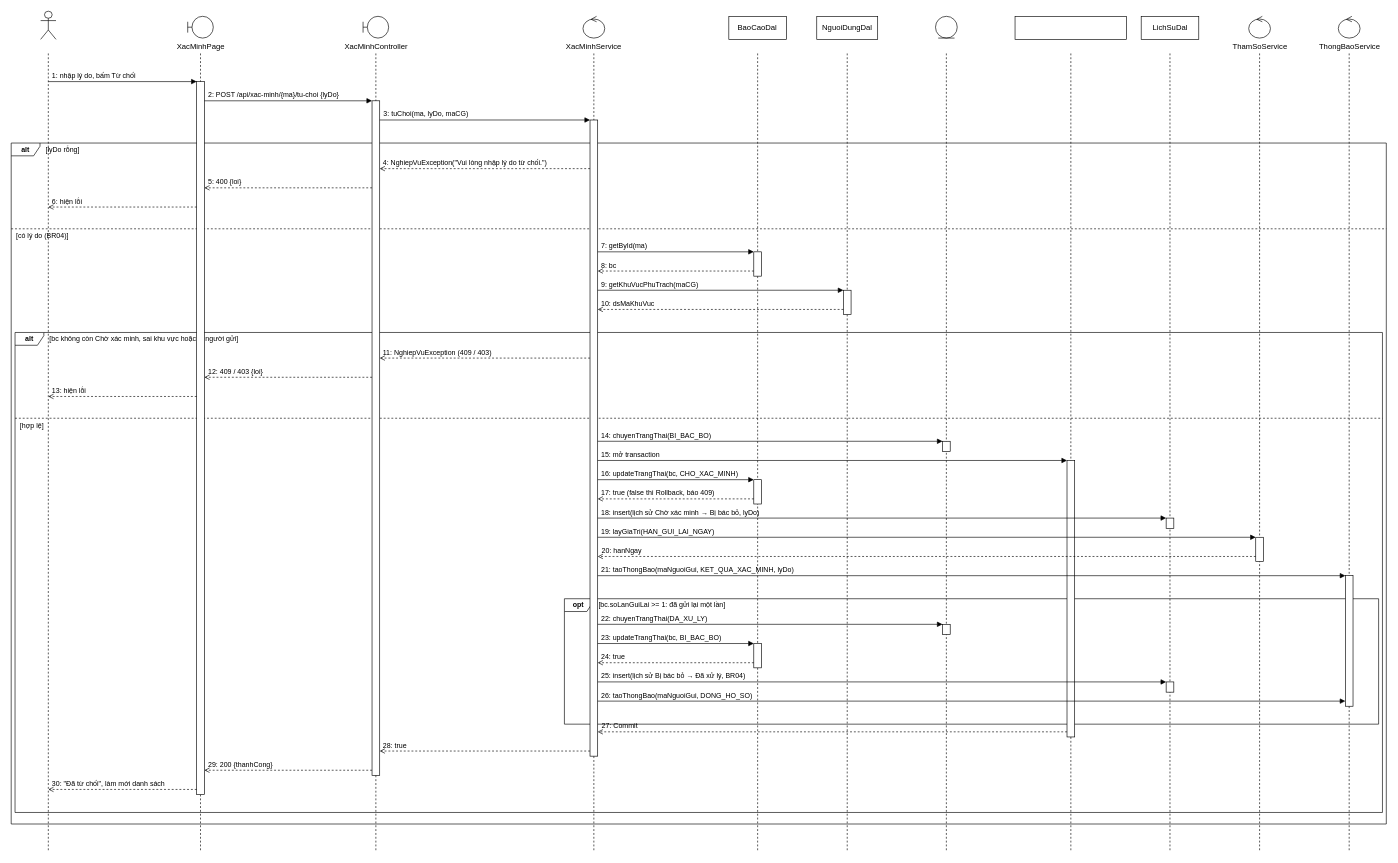
Image size: 1398x863. Some labels were removed from this diagram. Each missing label, with the centre of its shape:
"bc : BaoCaoHienTruong" goes at point 946,27.
"Chuyên gia" goes at point 48,25.
"tx : TransactionTemplate" goes at point 1070,27.
